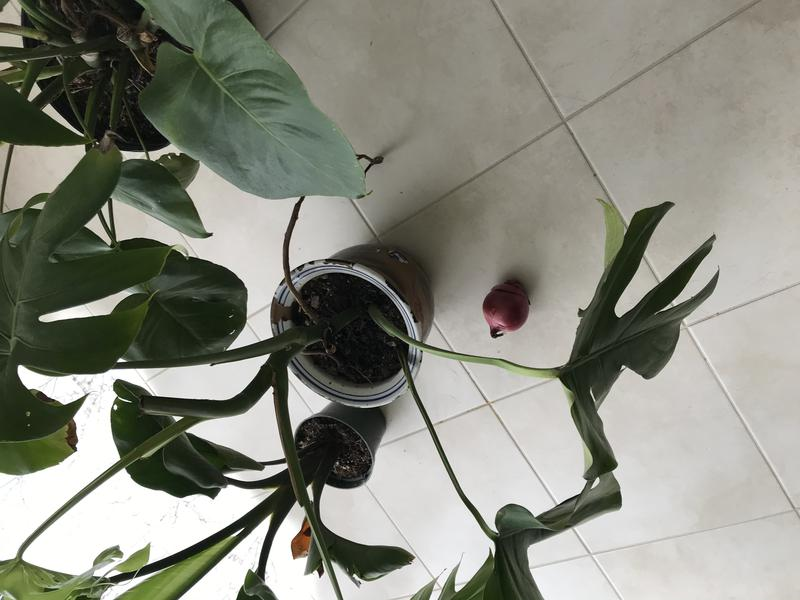purple_onion: (476, 271, 539, 344)
